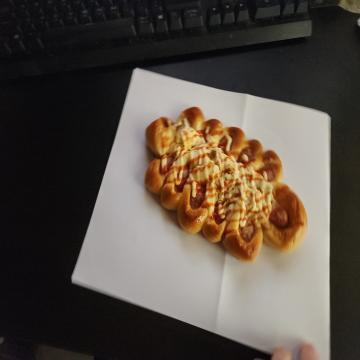pizza_bread: (142, 108, 306, 264)
